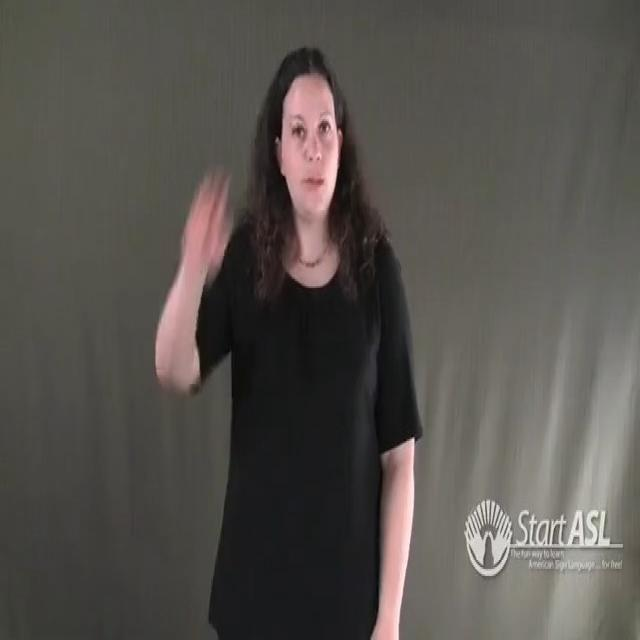hello: (176, 156, 243, 308)
